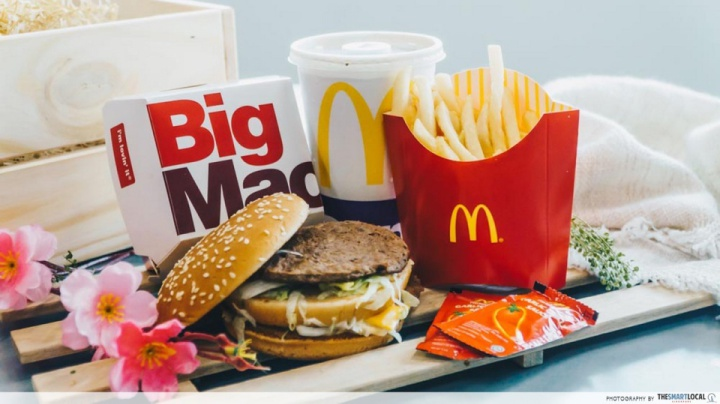mcdonalds: (446, 197, 504, 255)
